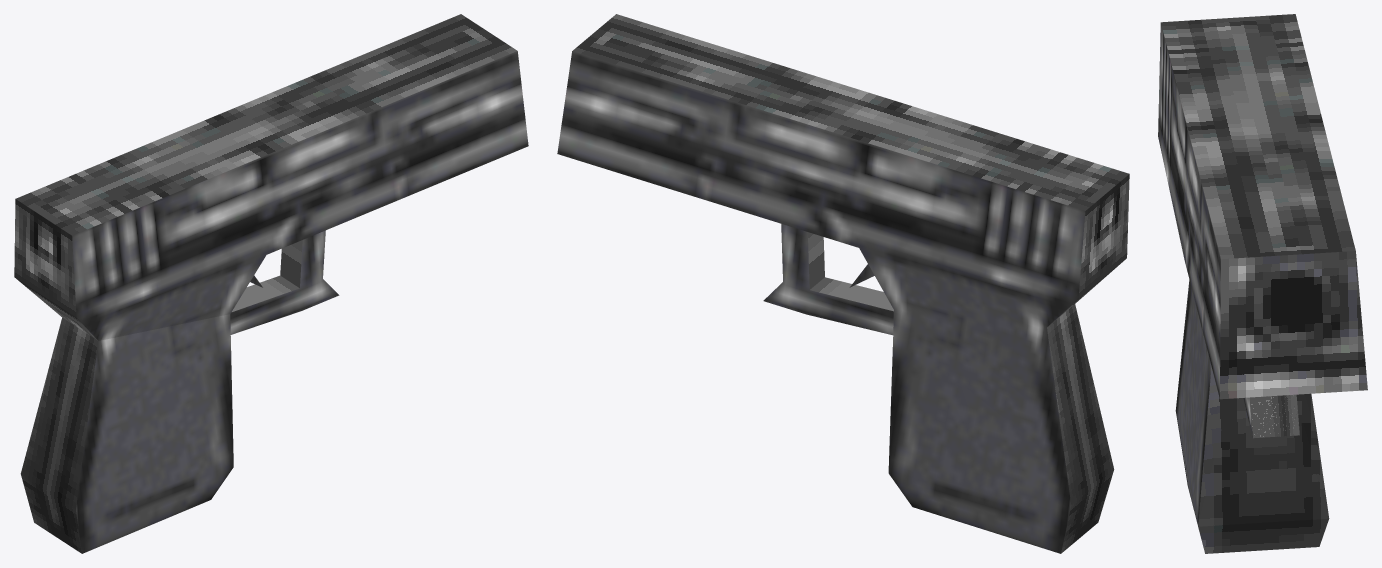
The model's file is p_9mmhandgun2.glb.
3 views of the same model, side by side, from view 1: azimuth 30°, elevation 25°; view 2: azimuth 150°, elevation 25°; view 3: azimuth 270°, elevation 25° (orthographic). The views are drawn at different scales.
Visible parts, largest first — view 1: p_9mmhandgun2; view 2: p_9mmhandgun2; view 3: p_9mmhandgun2.
Boxes of the visible parts, <box> form: p_9mmhandgun2: <box>14,14,528,553</box>; p_9mmhandgun2: <box>557,14,1129,553</box>; p_9mmhandgun2: <box>1158,14,1367,553</box>.
Size of the model in its own units: 8.13 by 6.2 by 2.23.
Materials: 4 (4 with a texture image).
